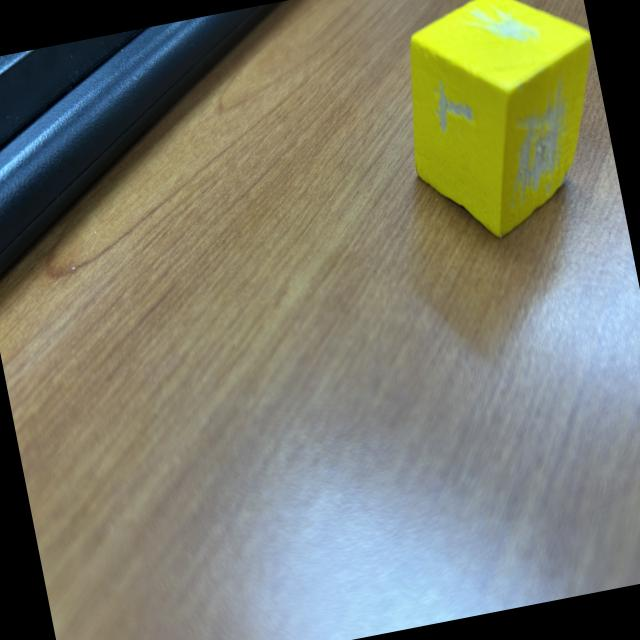broken: (384, 0, 625, 252)
